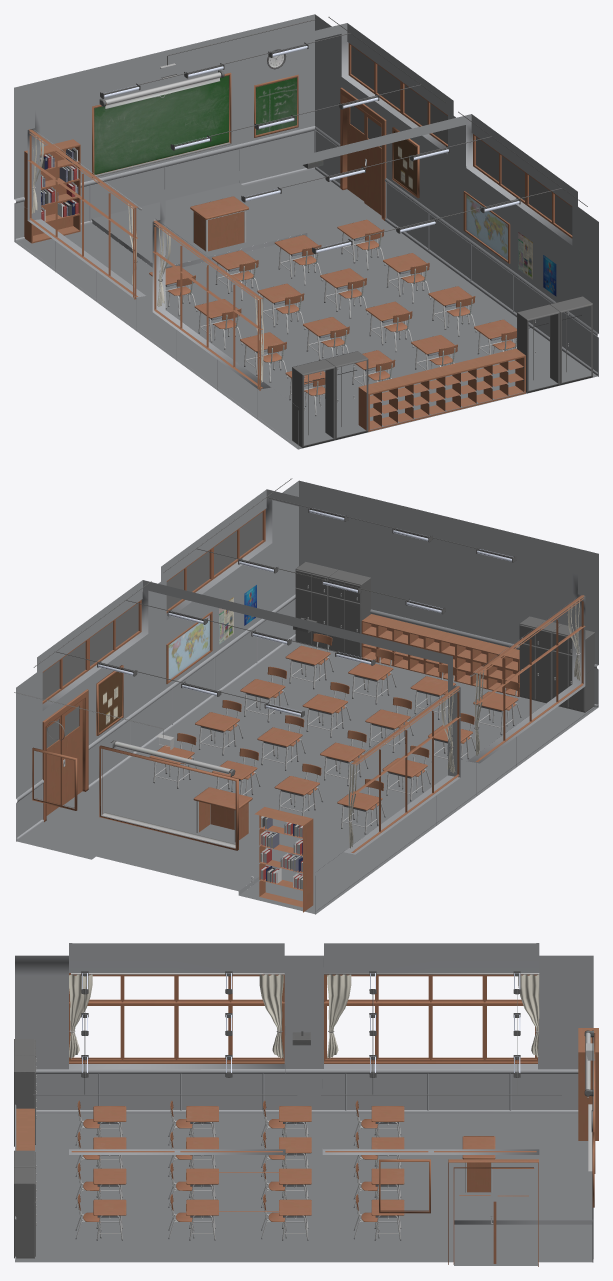
The model's file is classroom.glb.
The picture shows the model from 3 angles, top to bottom: view 1: azimuth 30°, elevation 25°; view 2: azimuth 150°, elevation 25°; view 3: azimuth 270°, elevation 25°; orthographic projection. The views are drawn at different scales.
Visible parts, largest first — view 1: walls005, walls, curtains, table001, board2001; view 2: walls005, walls, curtains, table001, board2001; view 3: walls, walls005, curtains, table001.
Boxes of the visible parts, bbox=[...] form: walls005: bbox=[14, 14, 598, 448]; walls: bbox=[15, 169, 597, 449]; curtains: bbox=[24, 17, 592, 447]; table001: bbox=[149, 196, 516, 416]; board2001: bbox=[94, 75, 556, 296]; walls005: bbox=[16, 480, 598, 914]; walls: bbox=[17, 638, 598, 914]; curtains: bbox=[14, 478, 594, 912]; table001: bbox=[149, 633, 521, 842]; board2001: bbox=[99, 585, 256, 732]; walls: bbox=[15, 1113, 592, 1265]; walls005: bbox=[15, 943, 593, 1262]; curtains: bbox=[14, 971, 598, 1266]; table001: bbox=[75, 1100, 495, 1240].
Size of the model in its own units: 10.4 by 5.06 by 15.84.
5 materials, 3 textured.
